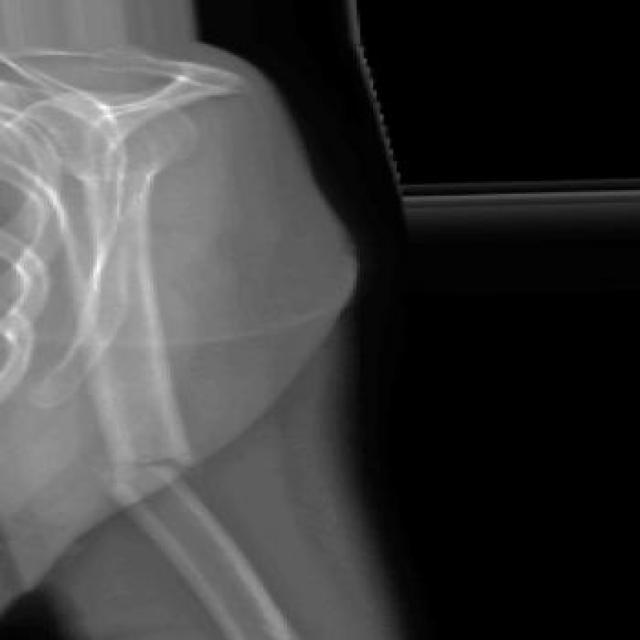Fracture: (94, 429, 220, 498)
